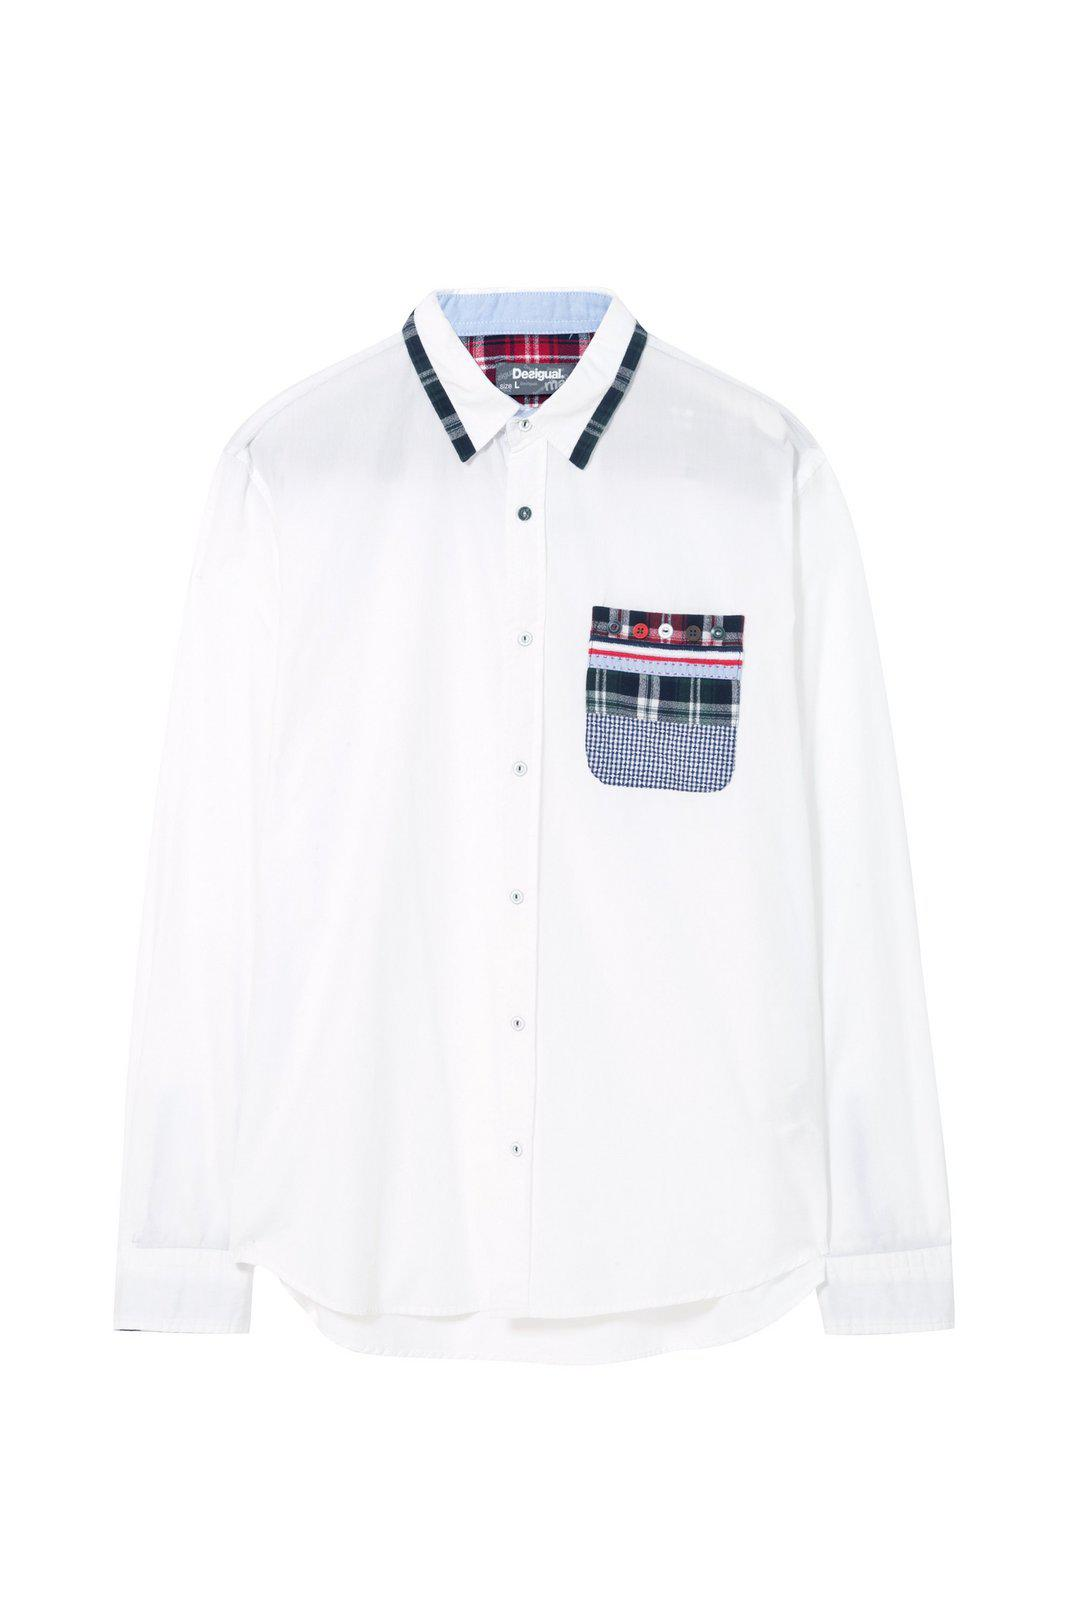teeshirt: (198, 275, 965, 1417)
